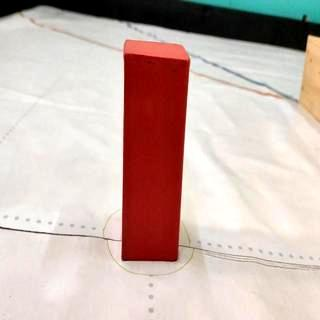redbox: (124, 40, 190, 262)
